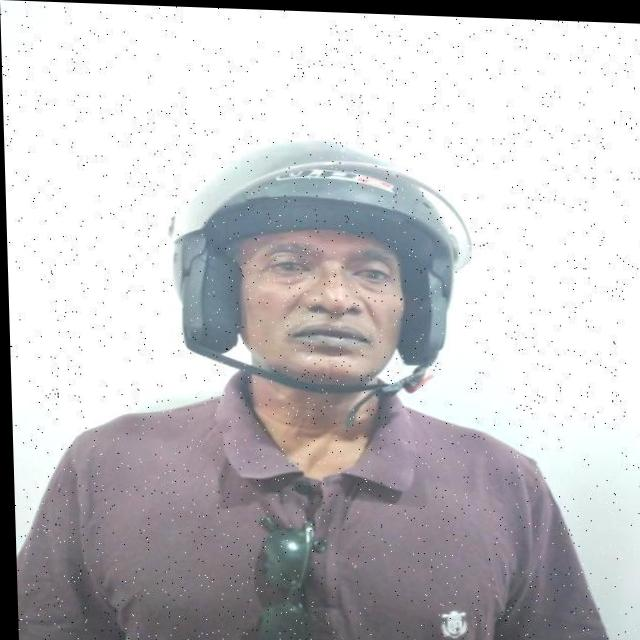helmet: (161, 131, 473, 430)
